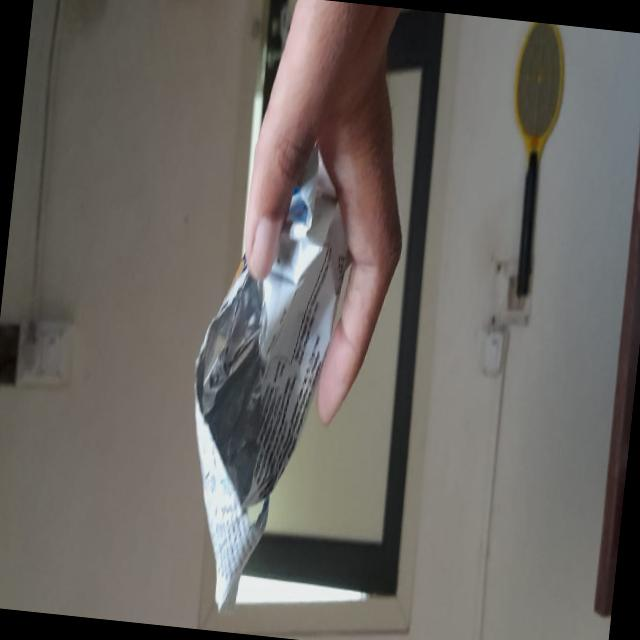Plastic - Recyclable: (167, 130, 364, 627)
